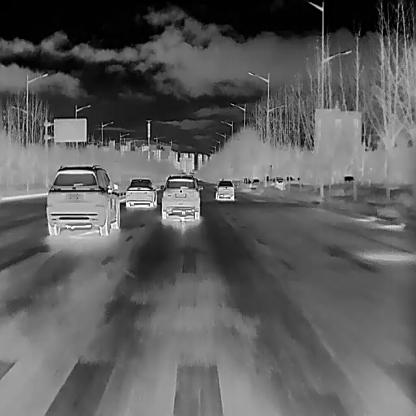car: (44, 162, 119, 235), (159, 174, 203, 220), (126, 178, 158, 208), (214, 180, 233, 200), (270, 176, 284, 190), (249, 178, 259, 188)
